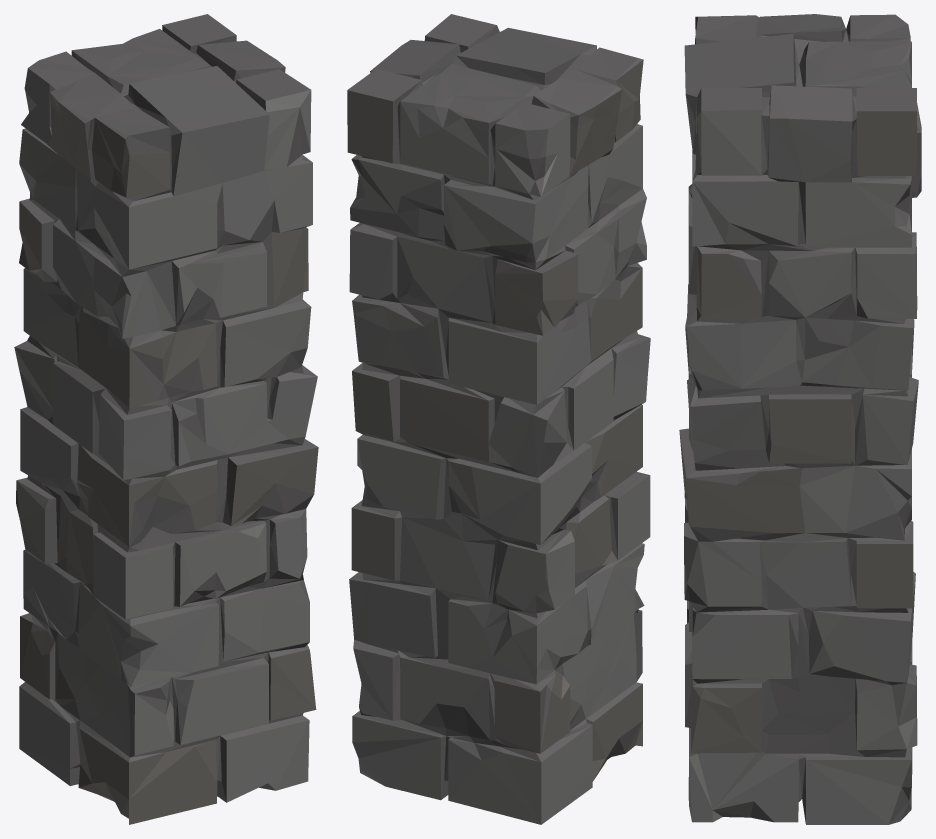
The model's file is SM_Env_Wall_Pillar_Large_01.FBX.
The picture shows the model from 3 angles, left to right: view 1: azimuth 30°, elevation 25°; view 2: azimuth 150°, elevation 25°; view 3: azimuth 270°, elevation 25°; orthographic projection. The views are drawn at different scales.
Visible parts, largest first — view 1: SM_Env_Wall_Pillar_Large_01; view 2: SM_Env_Wall_Pillar_Large_01; view 3: SM_Env_Wall_Pillar_Large_01.
Part boxes in pixels (x1,y1,x2,y2): SM_Env_Wall_Pillar_Large_01: (14,14,318,824); SM_Env_Wall_Pillar_Large_01: (347,14,650,824); SM_Env_Wall_Pillar_Large_01: (679,14,921,824).
Size of what is drawn, in the model's own units: 225 by 219 by 720.
